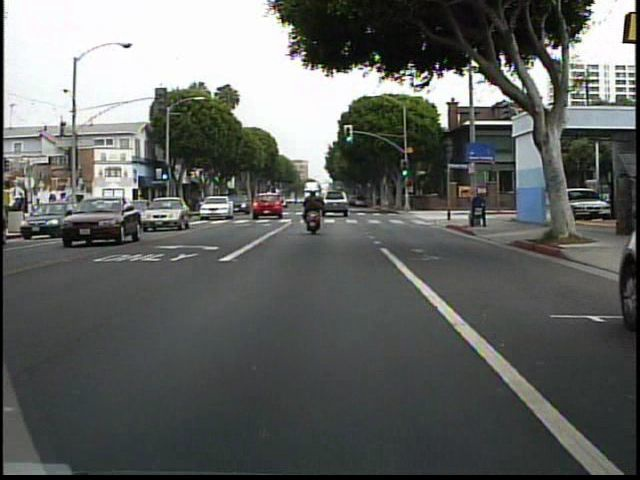person: (300, 185, 328, 239)
